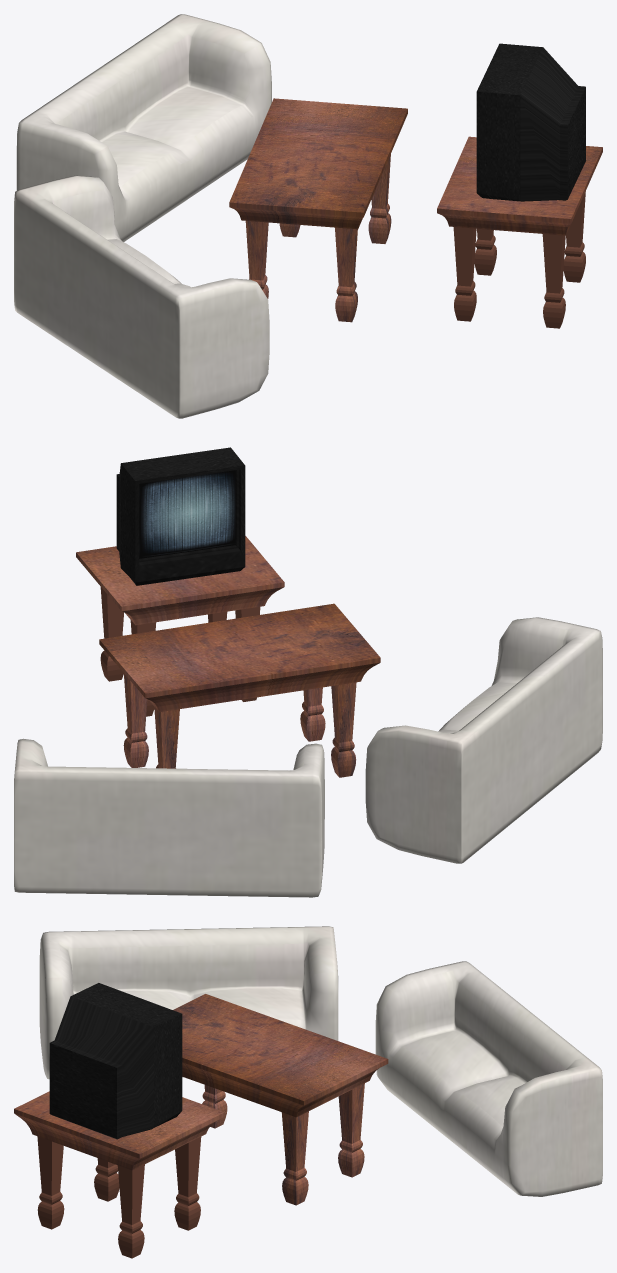
File: SetLiving.fbx
3 views of the same model, one above another, from view 1: azimuth 30°, elevation 25°; view 2: azimuth 150°, elevation 25°; view 3: azimuth 270°, elevation 25° (orthographic). The views are drawn at different scales.
Parts seen in each view (by area): view 1: LittleTableDining.005; view 2: LittleTableDining.005; view 3: LittleTableDining.005.
Part boxes in pixels (x1=…): LittleTableDining.005: x1=14, y1=14, x2=602, y2=418; LittleTableDining.005: x1=14, y1=447, x2=602, y2=897; LittleTableDining.005: x1=14, y1=926, x2=602, y2=1258.
Size of the model in its own units: 238 by 106 by 260.
